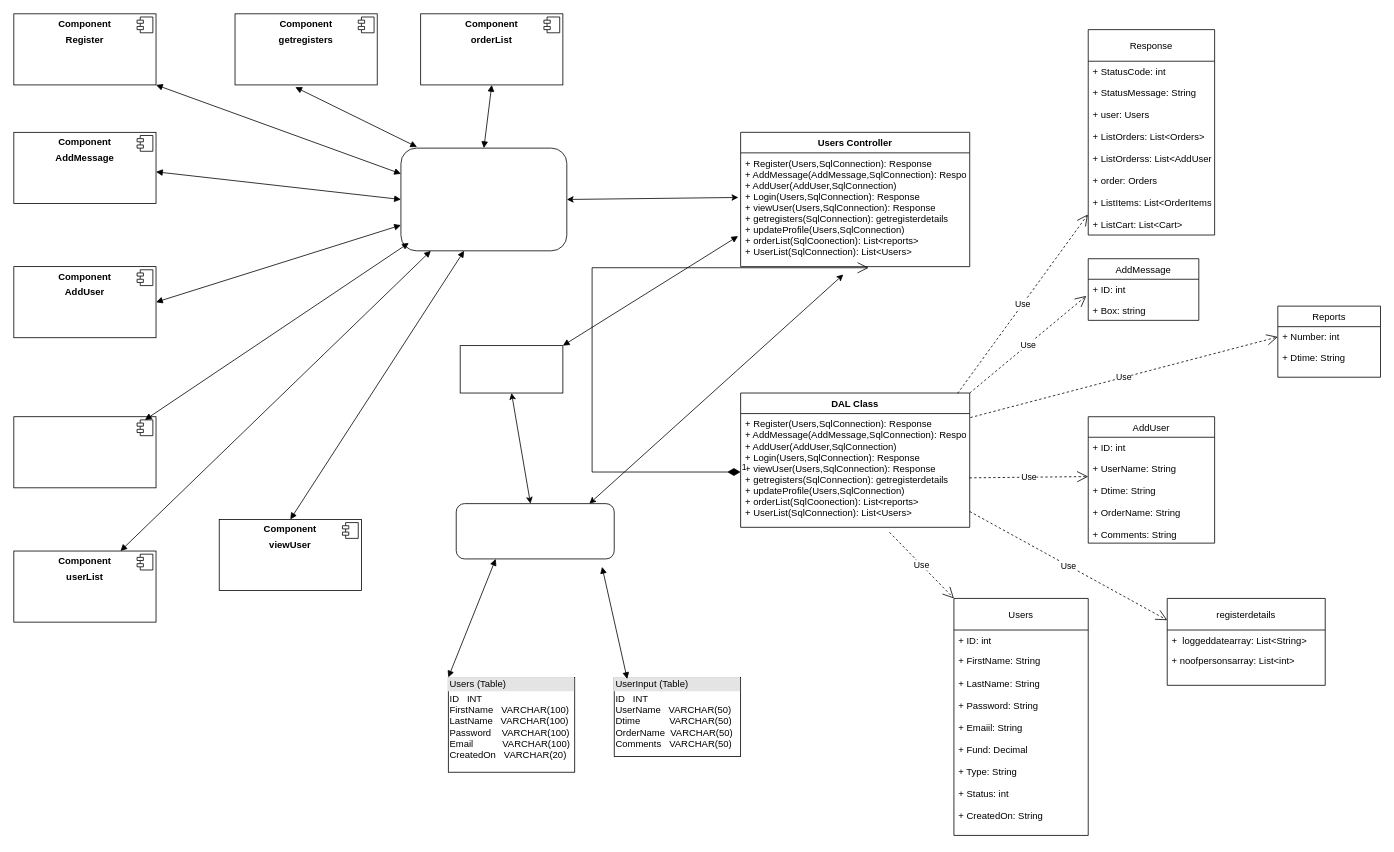
This 1394x852 diagram has some shape labels left out. Each missing label, with the centre of its shape:
"AXIOS HTTP CLIENT LIBRARY" goes at (x=483, y=199).
"Component Login" goes at (x=84, y=452).
"DATA CLIENT OBJECT" goes at (x=534, y=531).
"Reports (Table) Number INT Dtime VARCHAR(50)" goes at (x=511, y=369).
